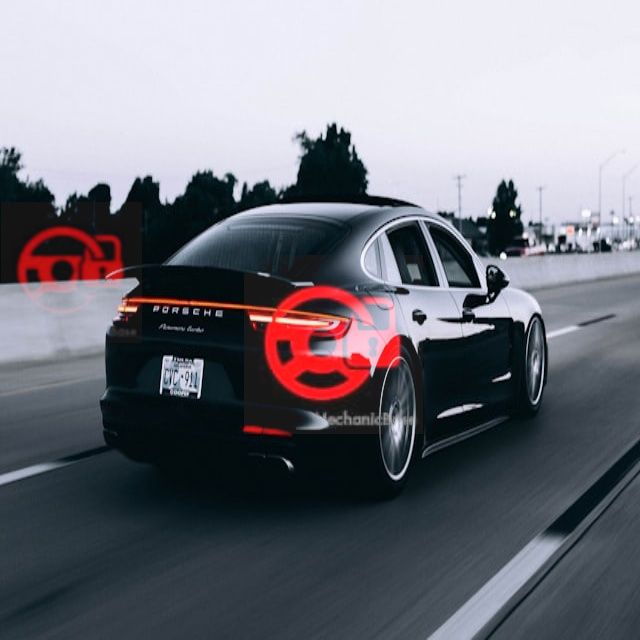symbol: (244, 255, 423, 434), (1, 202, 142, 343)
